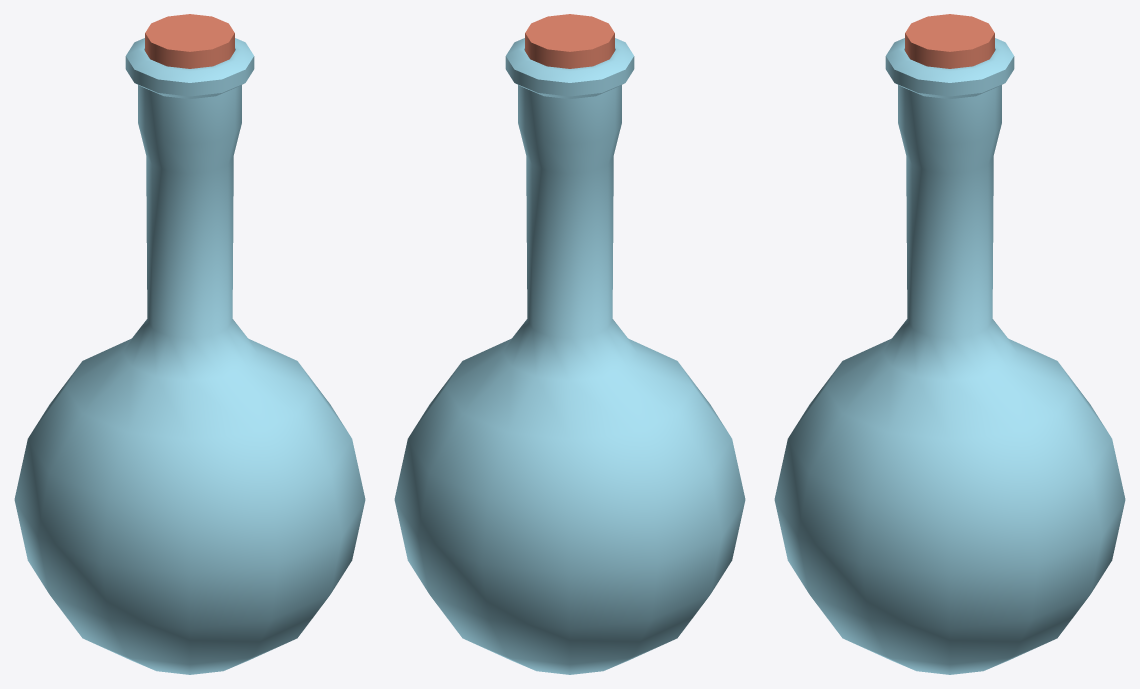
The model's file is PotionVail1.fbx.
3 renders of one model, left to right at view 1: azimuth 30°, elevation 25°; view 2: azimuth 150°, elevation 25°; view 3: azimuth 270°, elevation 25°, orthographic.
Parts seen in each view (by area): view 1: Potion01; view 2: Potion01; view 3: Potion01.
Boxes of the visible parts, x1=… form: Potion01: x1=14, y1=14, x2=365, y2=674; Potion01: x1=394, y1=14, x2=745, y2=674; Potion01: x1=774, y1=14, x2=1125, y2=674.
Size of the model in its own units: 9.66 by 18.64 by 9.66.
